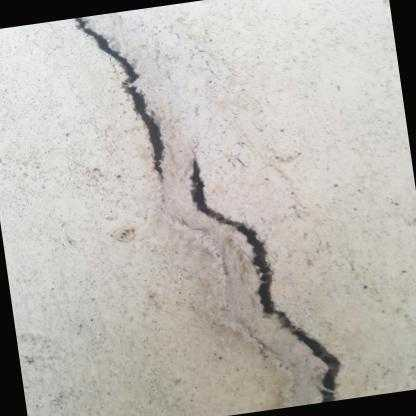crack: (184, 158, 345, 403), (68, 15, 167, 178)
